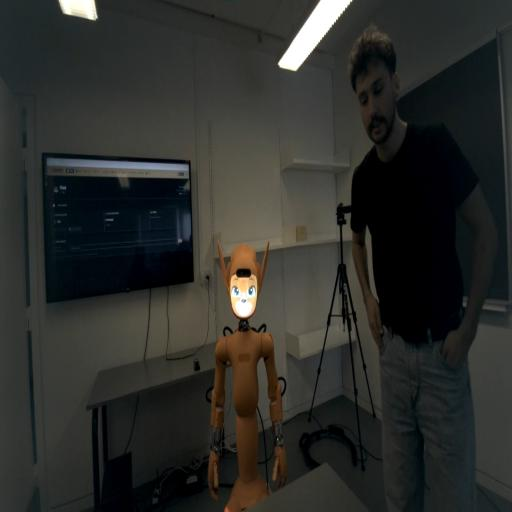Robot: (218, 240, 270, 320)
TV: (46, 160, 192, 292), (47, 164, 187, 199)
